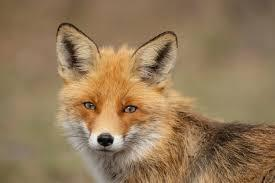fox: (52, 19, 275, 183)
